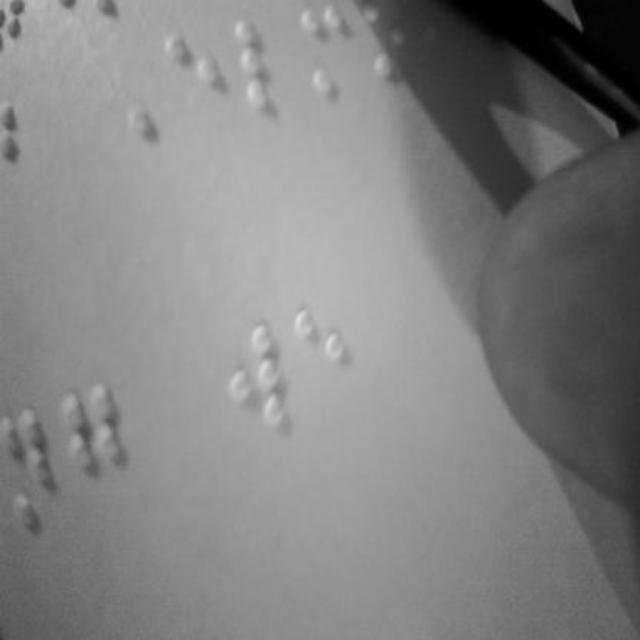braiile: (58, 382, 132, 522), (294, 294, 362, 422), (221, 311, 291, 434), (1, 391, 54, 535), (163, 21, 230, 133), (236, 13, 298, 117), (303, 2, 359, 114)
